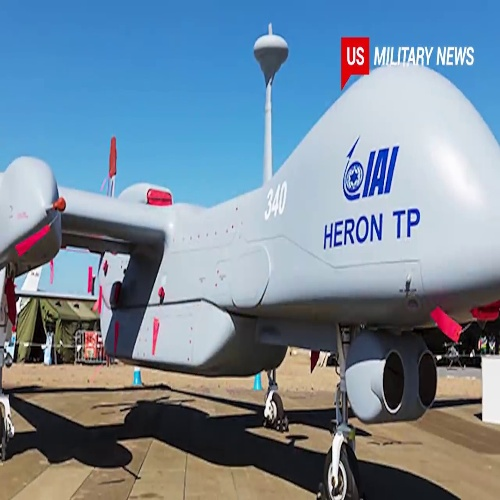uav622: (2, 31, 500, 496)
